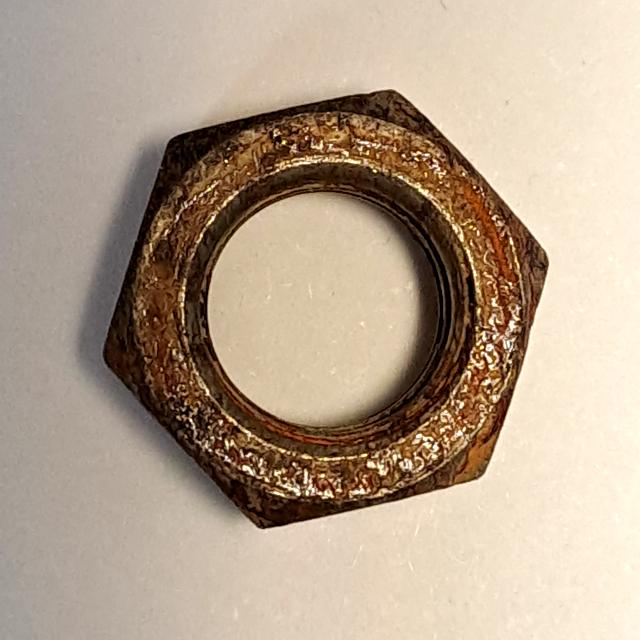Rust: (83, 77, 558, 552)
